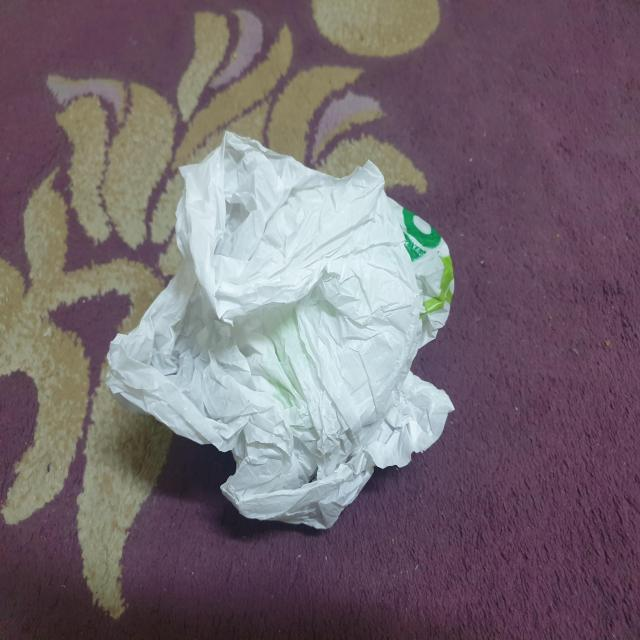plastic bag: (103, 121, 470, 542)
